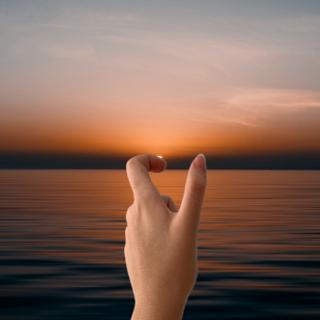Irritated: (117, 147, 214, 316)
